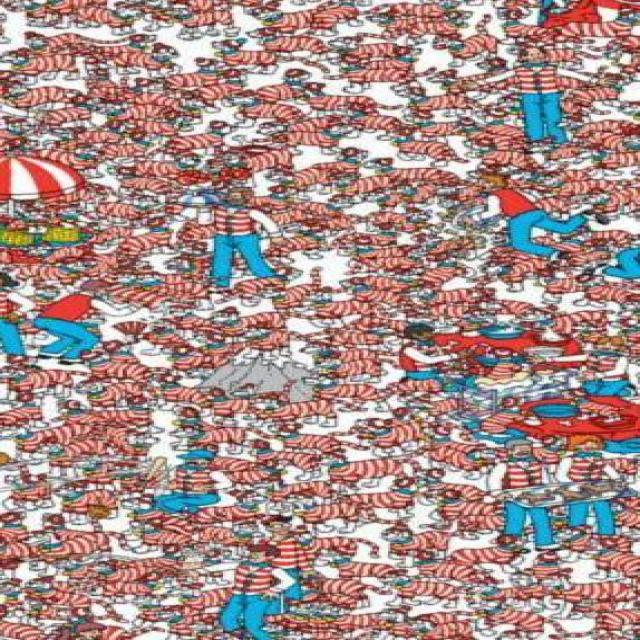waldo: (256, 514, 290, 536)
